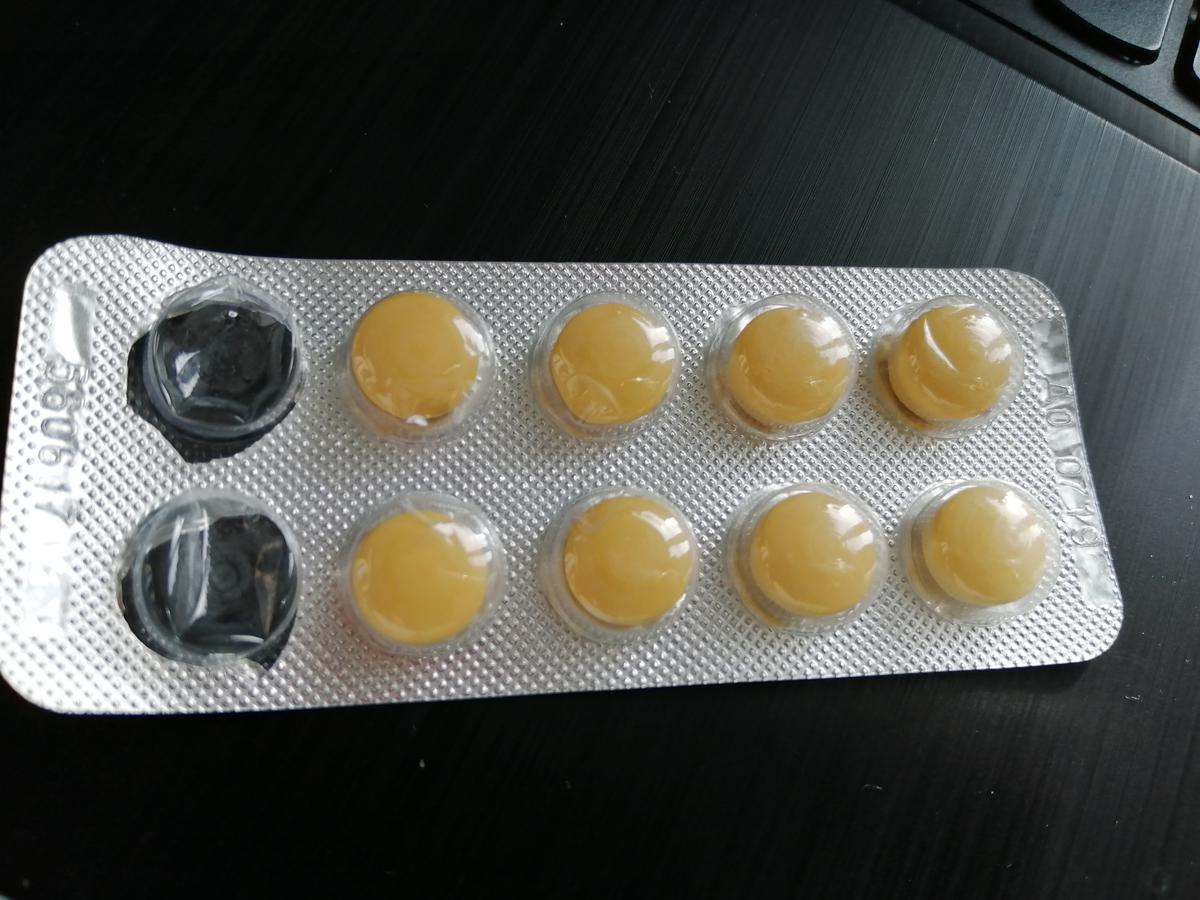tablet: (347, 503, 492, 648), (741, 483, 889, 618), (561, 492, 696, 627), (344, 292, 484, 422), (549, 298, 677, 427), (727, 303, 849, 428), (892, 303, 1011, 430), (929, 480, 1046, 605)
